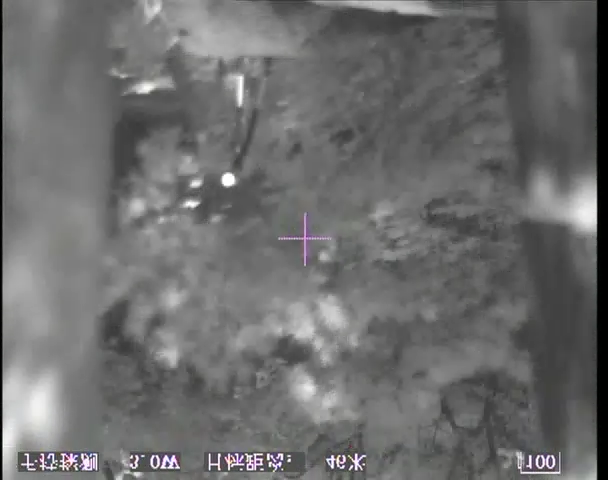my: (220, 171, 236, 189)
